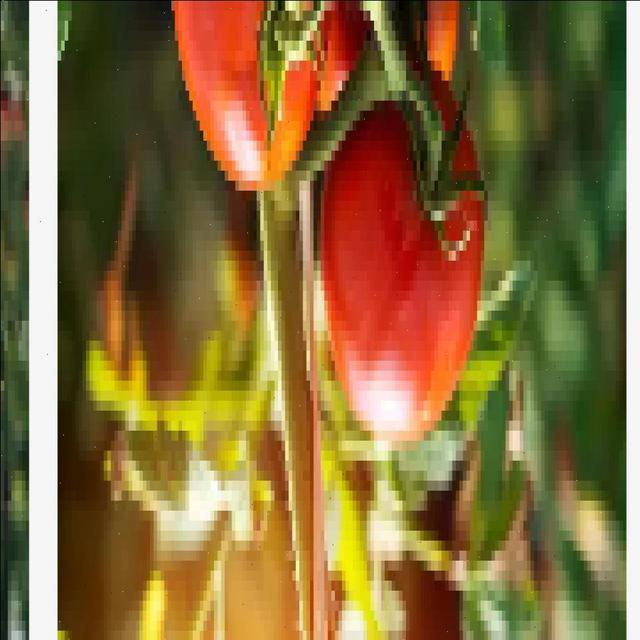Healthy Fruit: (112, 73, 268, 240)
